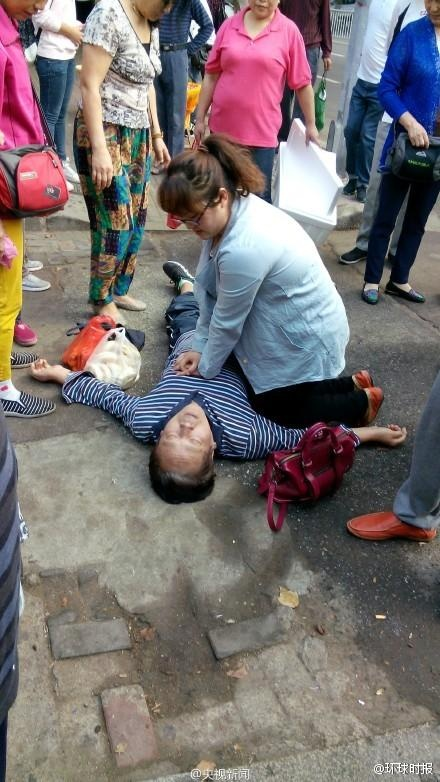falling: (39, 275, 408, 493)
